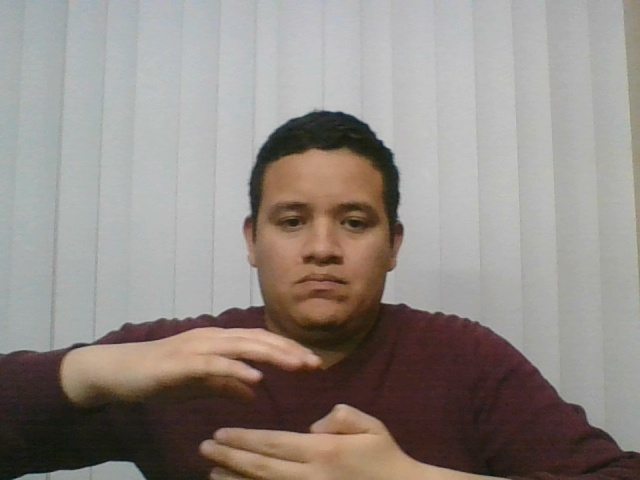To Study: (33, 302, 462, 479)
